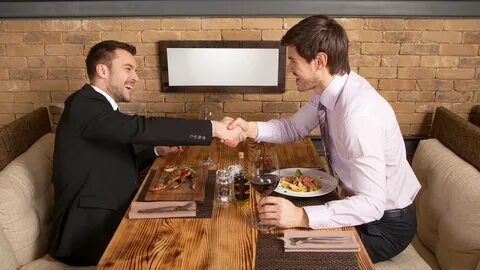awake: (274, 14, 420, 241), (50, 38, 175, 264)
